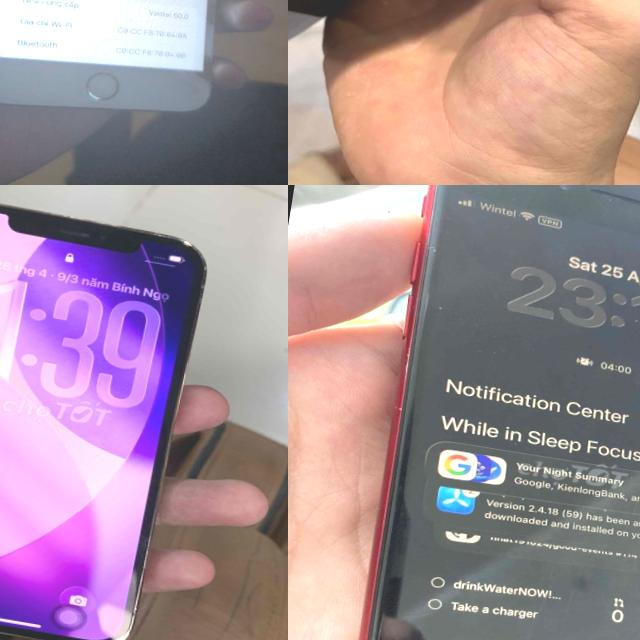scratch: (397, 344, 416, 374), (387, 398, 407, 417), (596, 192, 620, 206)
